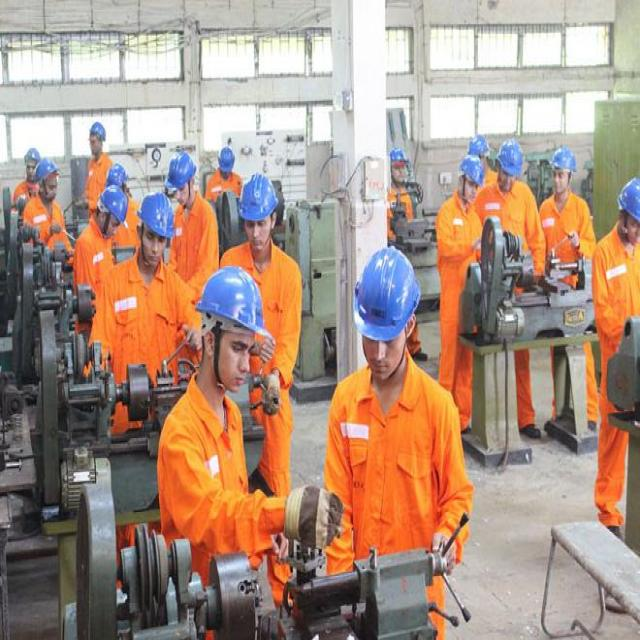Reflective-Jacket: (319, 360, 465, 587), (221, 246, 311, 430), (105, 255, 185, 388), (538, 188, 596, 297), (590, 228, 640, 351), (430, 188, 488, 290), (71, 220, 125, 326), (18, 194, 69, 258)
Safety-Helmet: (344, 237, 427, 350), (193, 262, 269, 344), (429, 189, 486, 292), (234, 167, 283, 226), (134, 188, 179, 245), (159, 148, 200, 196), (91, 183, 131, 230), (492, 132, 528, 184), (614, 172, 640, 233), (546, 138, 582, 181), (452, 150, 487, 190), (458, 128, 492, 166), (29, 152, 63, 189), (102, 158, 134, 190), (82, 114, 112, 145), (214, 141, 238, 175), (385, 142, 412, 171)
